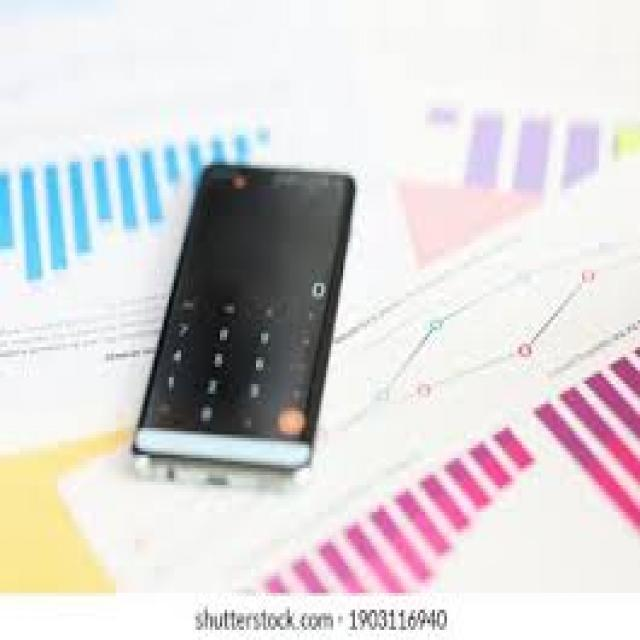Calculator: (130, 162, 357, 472)
